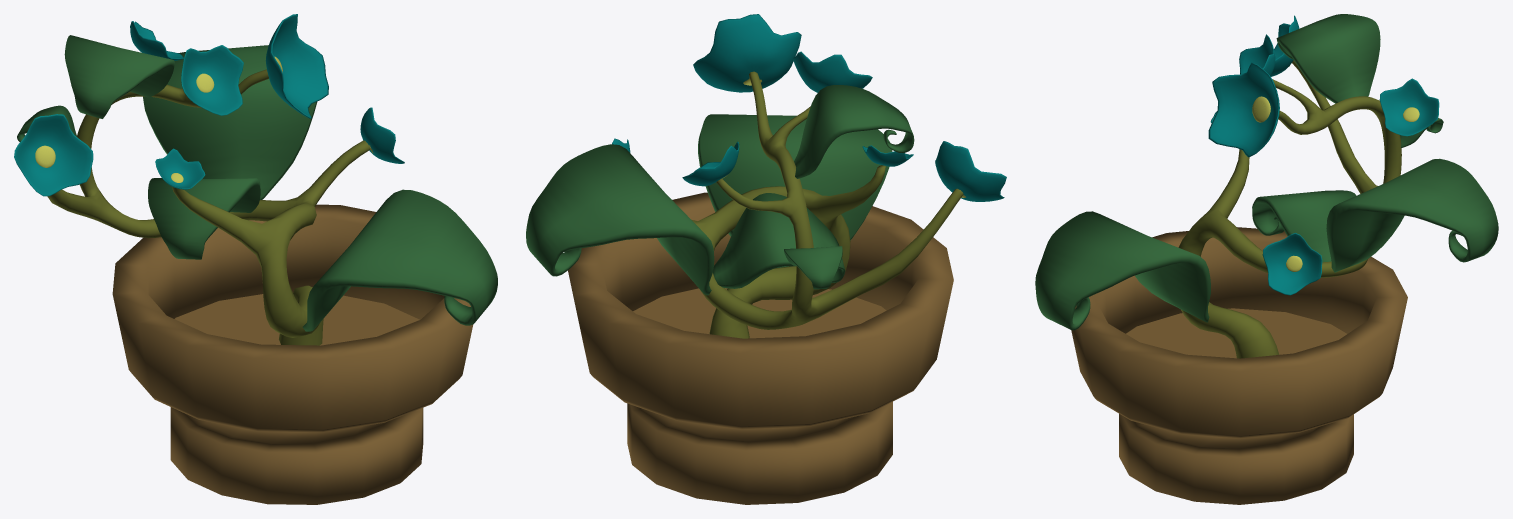
The model's file is cicek2.fbx.
3 views of the same model, side by side, from view 1: azimuth 30°, elevation 25°; view 2: azimuth 150°, elevation 25°; view 3: azimuth 270°, elevation 25° (orthographic). The views are drawn at different scales.
Visible parts, largest first — view 1: C_pot; view 2: C_pot; view 3: C_pot.
Boxes of the visible parts, box(x1,y1,x2,y2) form: C_pot: box(14, 14, 497, 504); C_pot: box(526, 14, 1006, 504); C_pot: box(1035, 14, 1498, 504).
Bounding box in the file's own units: 86.38 × 83.15 × 89.52.
